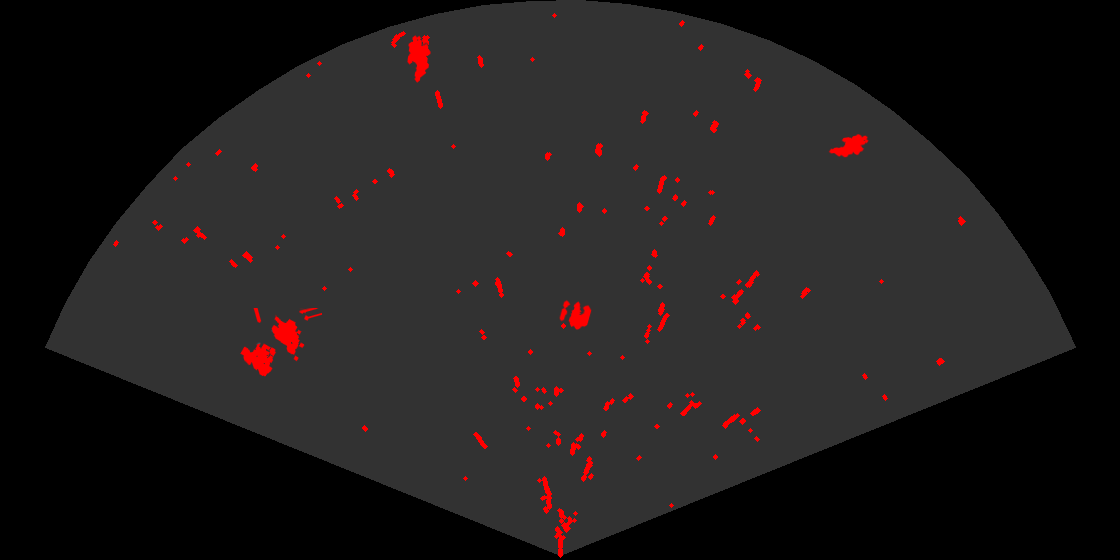AUV: (406, 34, 432, 84), (827, 133, 870, 159)
ball: (558, 298, 593, 331)
cage: (239, 308, 322, 378)
